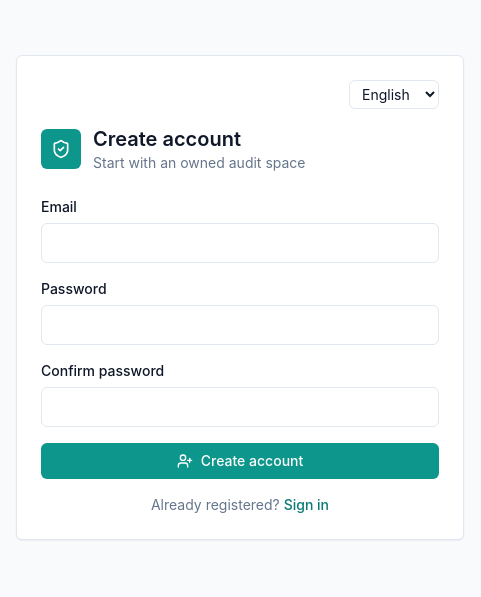
Scenario: register page › renders register labels and validation in Russian
Select "Russian" in the dropdown named "Interface language" at (394, 94), box [349,80,439,108]
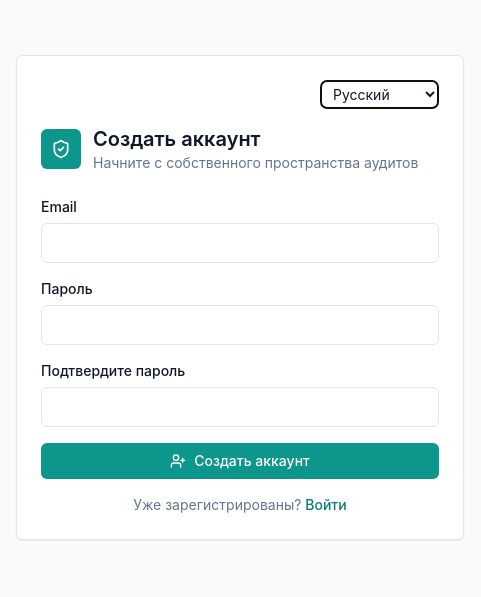
expect the heading "Создать аккаунт" is shown: met, box [93,126,260,150]
Click the button "Создать аккаунт" at (240, 460), box [41,442,439,478]
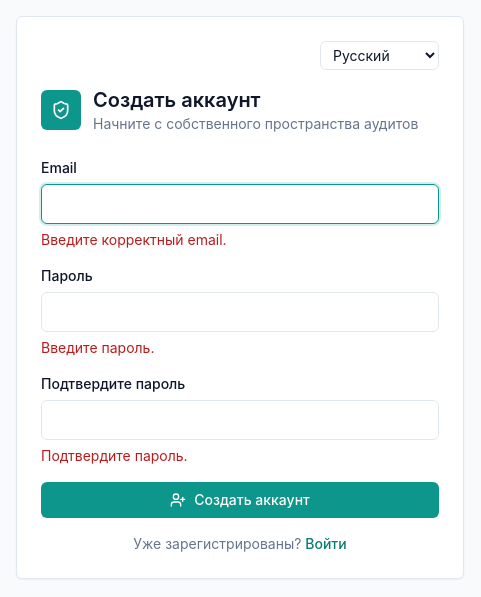
expect the text "Введите корректный email." is shown: met, box [41,230,227,248]
expect the text "Введите пароль." is shown: met, box [41,338,154,356]
